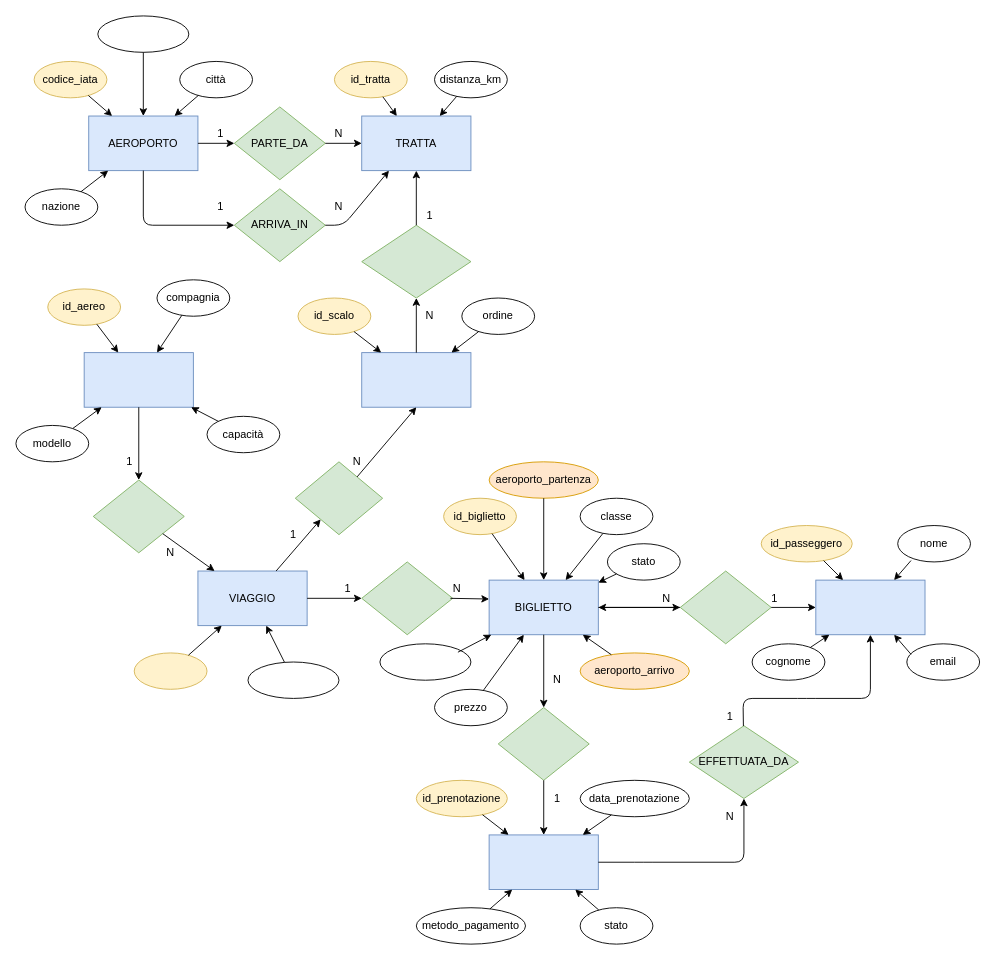
Some shapes in this 996 by 960 pixel diagram are drawn without their labels. Here are the shapes that lost their labels. From the top down, the box of each, then its label:
(97, 15, 189, 52): nome_completo
(361, 224, 471, 298): UTILIZZA_TRATTA
(83, 352, 193, 407): AEREO
(361, 352, 471, 407): SCALO
(92, 479, 184, 553): UTILIZZA
(294, 461, 383, 535): HA_SCALO
(361, 561, 453, 635): RELATIVO_A
(679, 570, 771, 644): INTESTATO_A
(815, 579, 925, 635): PASSEGGERO
(133, 652, 207, 689): id_viaggio
(247, 661, 339, 698): data_partenza
(379, 643, 471, 680): data_emissione
(497, 707, 589, 780): INCLUDE
(488, 834, 598, 890): PRENOTAZIONE
